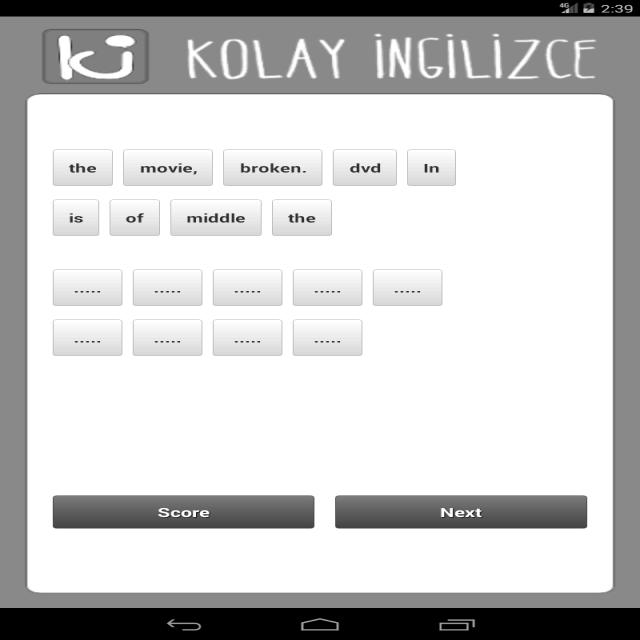Button: (335, 493, 589, 531), (39, 495, 324, 523)
ImageView: (38, 25, 152, 87)
TextView: (190, 34, 603, 82), (230, 158, 314, 182), (136, 157, 202, 180), (53, 152, 111, 178), (288, 278, 348, 301), (182, 211, 255, 228), (62, 281, 123, 301), (144, 328, 190, 352), (345, 155, 379, 177), (279, 211, 323, 228), (62, 208, 96, 228), (150, 282, 190, 298), (378, 286, 430, 298), (118, 208, 150, 226), (224, 286, 270, 298), (416, 160, 442, 178), (70, 336, 114, 346), (305, 339, 349, 349), (216, 338, 266, 344)
